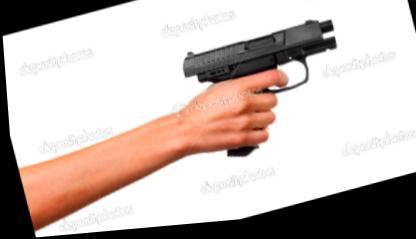pistol: (171, 11, 366, 174)
